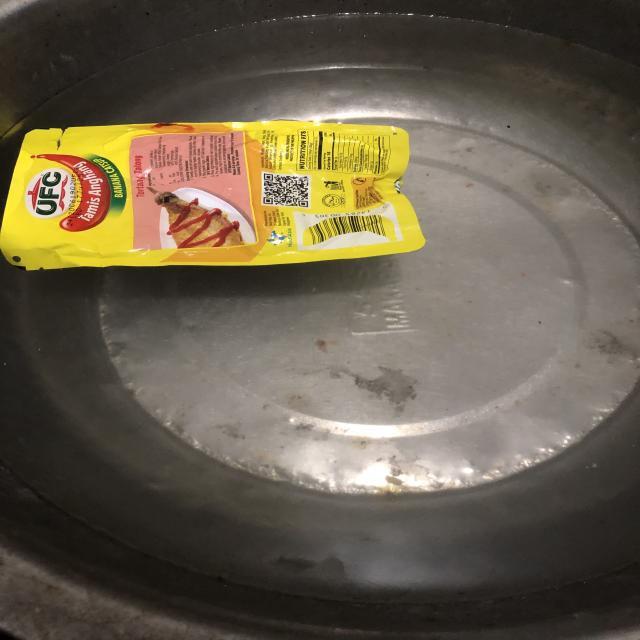Plastic Pouch: (0, 100, 451, 286)
